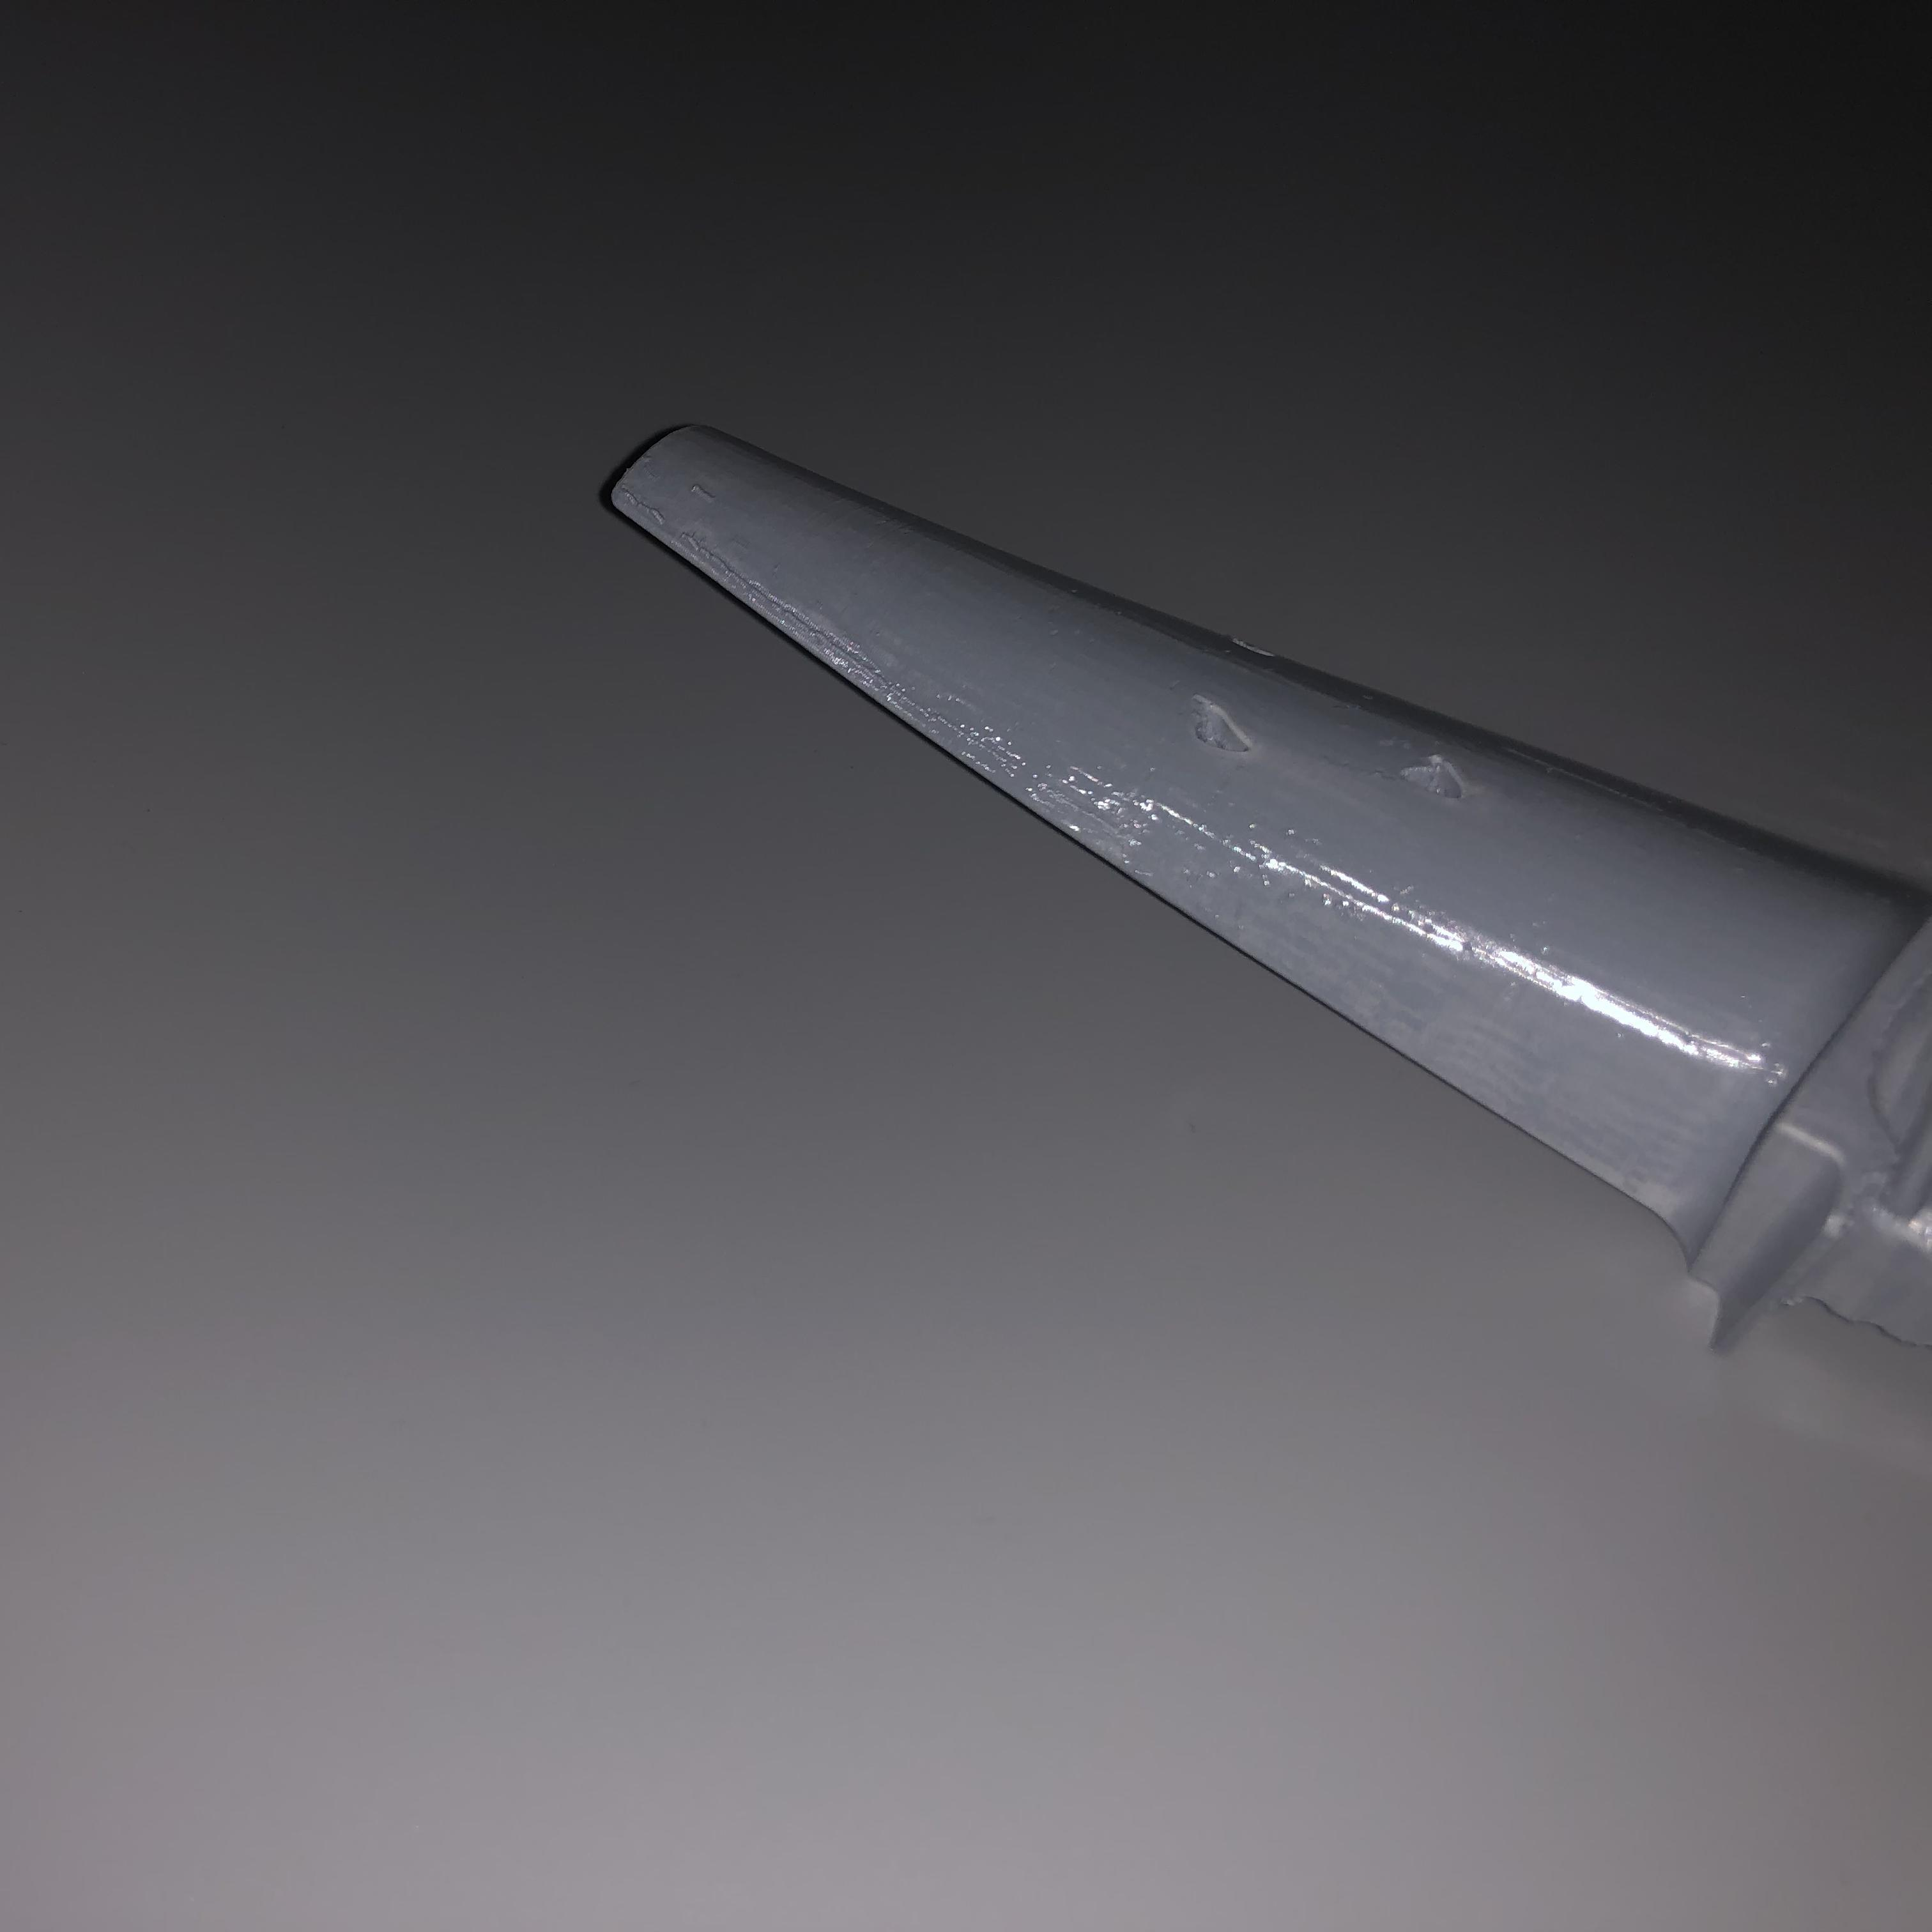breakdown: (1187, 639, 1465, 809)
